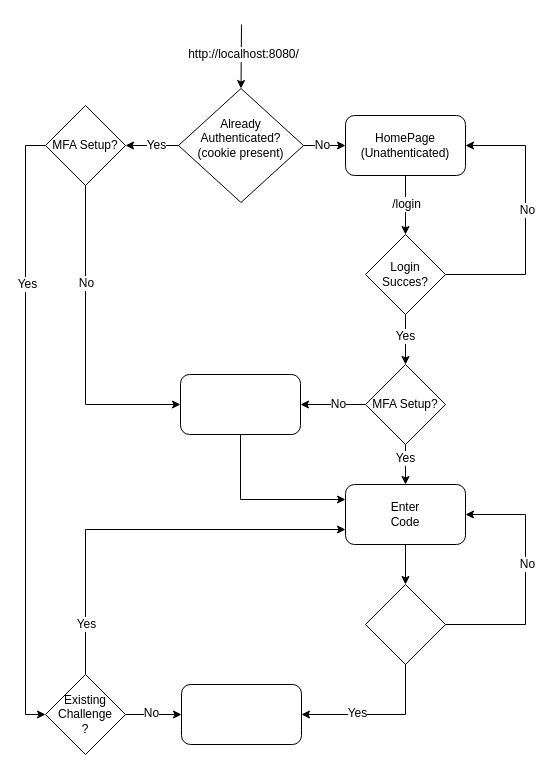
The diagram is 552 pixels wide and 772 high, and some of its shapes have lost their labels. Each missing label, with the centre of its shape:
HomePage (Authenticated): pixel 241 714
Setup Google Authenticator MFA: pixel 240 404
Valid Code?: pixel 405 624
